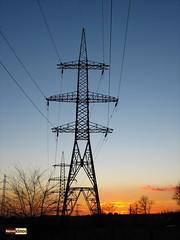power_tower: (44, 23, 113, 216)
